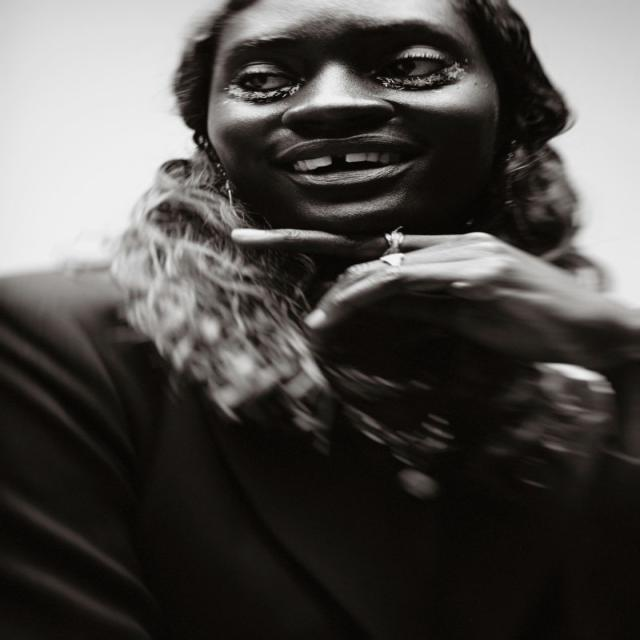sem_oculos: (176, 32, 503, 107)
